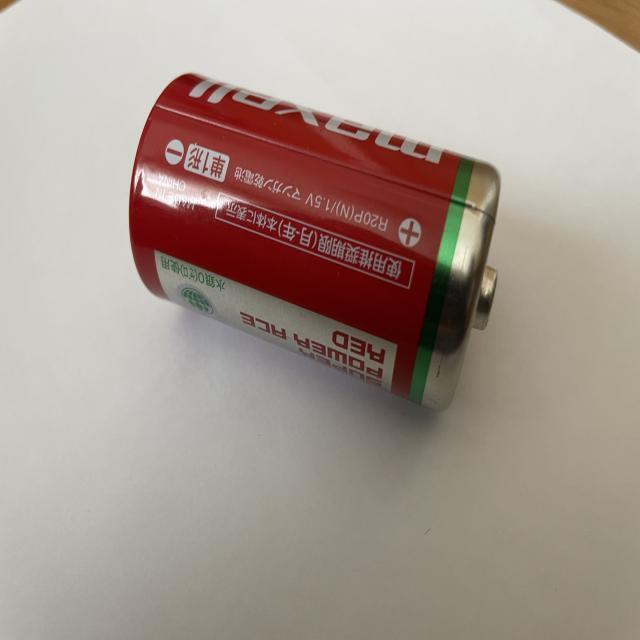Hazard: (124, 72, 506, 417)
